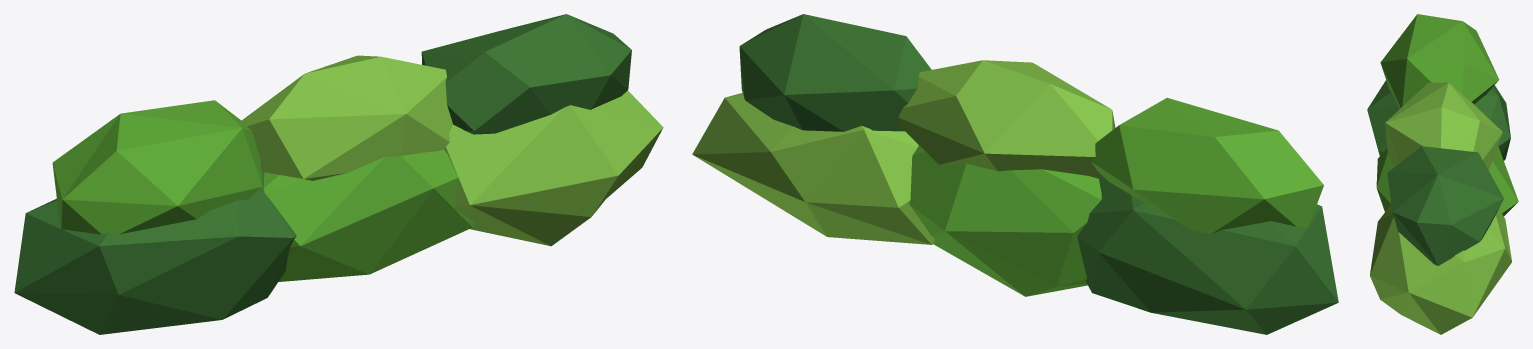
Rendered from hedge_straight_1_lod1.glb.
The picture shows the model from 3 angles, left to right: view 1: azimuth 30°, elevation 25°; view 2: azimuth 150°, elevation 25°; view 3: azimuth 270°, elevation 25°; orthographic projection. The views are drawn at different scales.
Visible parts, largest first — view 1: hedge_straight_1_lod1; view 2: hedge_straight_1_lod1; view 3: hedge_straight_1_lod1.
Boxes of the visible parts, x1,y1,x2,y2 form: hedge_straight_1_lod1: [14, 14, 663, 334]; hedge_straight_1_lod1: [692, 14, 1338, 334]; hedge_straight_1_lod1: [1367, 14, 1518, 334].
Size of the model in its own units: 4.82 by 1.51 by 1.32.
